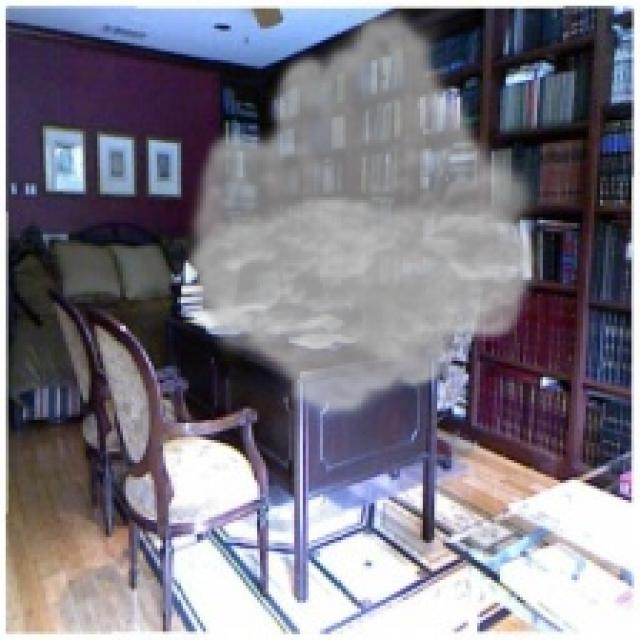smoke: (177, 3, 546, 420)
